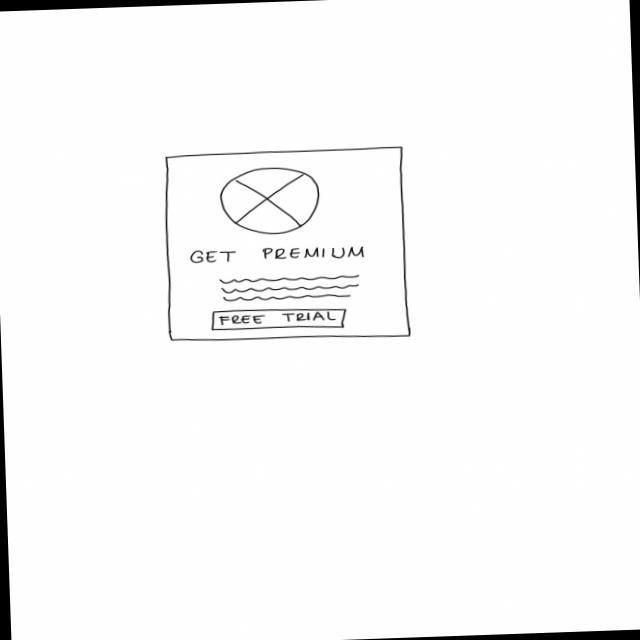button: (210, 304, 348, 332)
container: (162, 144, 412, 344)
image: (218, 164, 322, 236)
label: (188, 242, 366, 264)
textbox: (218, 273, 362, 302)
